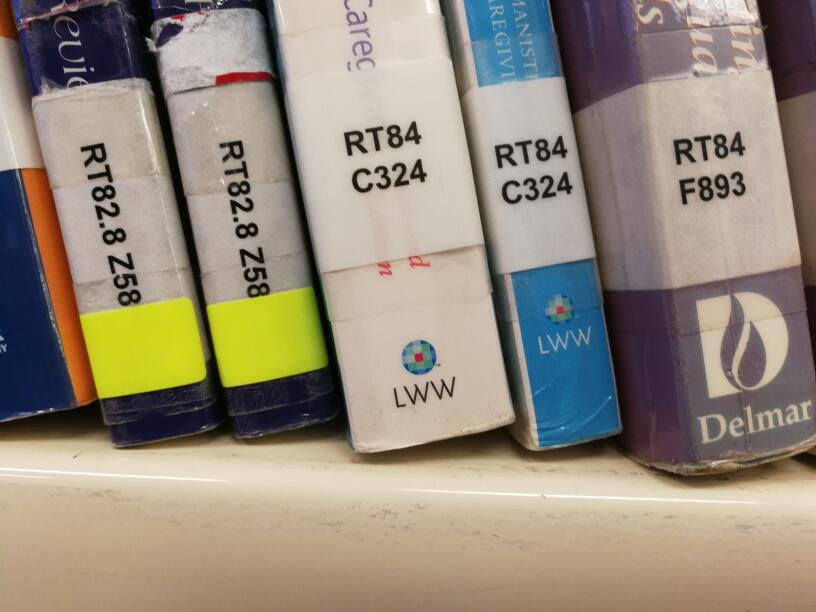booklabel: (76, 139, 144, 307), (213, 136, 272, 300), (340, 117, 430, 194), (666, 129, 750, 207), (490, 132, 574, 205)
